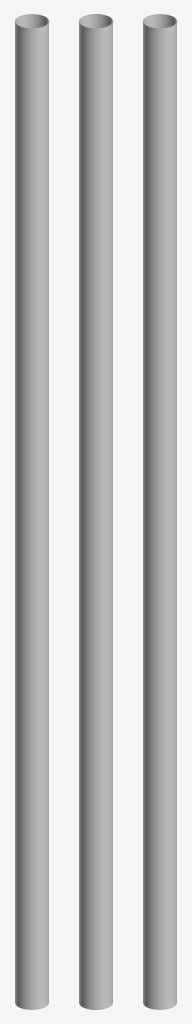
File: LocationMarker.obj
3 views of the same model, side by side, from view 1: azimuth 90°, elevation 25°; view 2: azimuth 150°, elevation 25°; view 3: azimuth 270°, elevation 25° (orthographic).
Visible parts, largest first — view 1: LocationMarker; view 2: LocationMarker; view 3: LocationMarker.
Part boxes in pixels (x1,y1,x2,y2): LocationMarker: [15, 14, 48, 1009]; LocationMarker: [79, 14, 112, 1009]; LocationMarker: [143, 14, 176, 1009].
Size of the model in its own units: 3 by 95.21 by 3.
